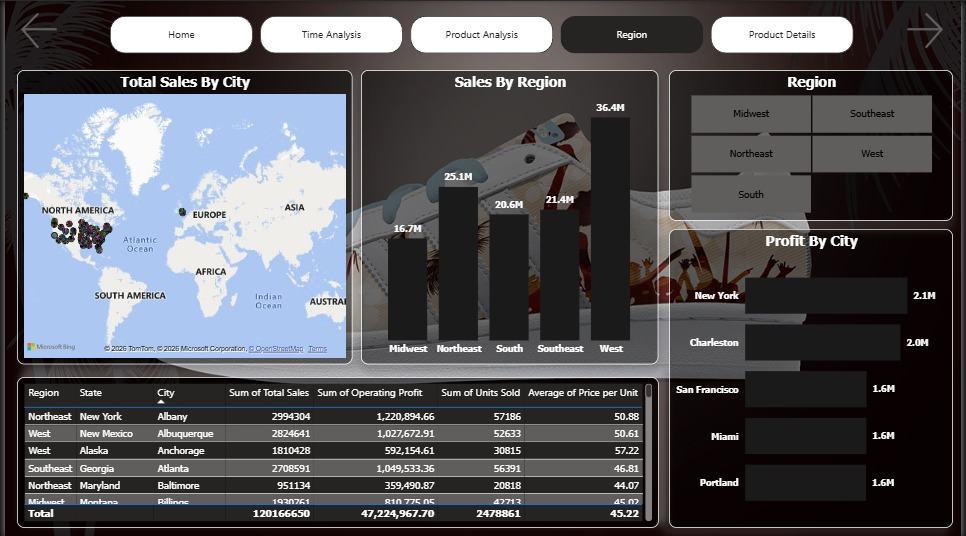

Layout of this report page (visuals, bound fields, positions):
{"tool":"powerbi","page":{"name":"Region","canvas":[1280,720],"ordinal":3},"visuals":[{"type":"map","title":"Total Sales By City","fields":{"Series":["Adidas_Sales.Total Sales"],"Category":["Adidas_Sales.City"]},"box":[15.4,92.5,448.6,394],"z":0},{"type":"clusteredColumnChart","title":"Sales By Region","fields":{"Category":["Adidas_Sales.Region","Adidas_Sales.City","Adidas_Sales.State"],"Y":["Sum(Adidas_Sales.Total Sales)"]},"box":[476.7,92.5,398.2,394],"z":1000},{"type":"barChart","title":"Profit By City","fields":{"Category":["Adidas_Sales.City"],"Y":["Sum(Adidas_Sales.Operating Profit)"]},"box":[888.8,305.6,379.9,399.6],"z":2000},{"type":"tableEx","fields":{"Values":["Adidas_Sales.Region","Adidas_Sales.State","Adidas_Sales.City","Sum(Adidas_Sales.Total Sales)","Sum(Adidas_Sales.Operating Profit)","Sum(Adidas_Sales.Units Sold)","Avg(Adidas_Sales.Price per Unit)"]},"box":[15.4,503.3,859.4,201.9],"z":3000},{"type":"slicer","title":"Region","fields":{"Values":["Adidas_Sales.Region"]},"box":[888.8,92.5,379.9,201.9],"z":4000},{"type":"pageNavigator","box":[140.2,19.6,999.6,50.5],"z":5000},{"type":"actionButton","box":[1200.1,9.8,68.7,60.3],"z":6000},{"type":"actionButton","box":[15.4,9.8,65.9,60.3],"z":7000}]}

Visuals, with their boxes in screenshot pixels (x1, y1, x2, y2), scaled from the page's 1280x720 canvas onto the 966x536 screenshot:
"Total Sales By City" map: {"x1": 12, "y1": 69, "x2": 350, "y2": 362}
"Sales By Region" clusteredColumnChart: {"x1": 360, "y1": 69, "x2": 660, "y2": 362}
"Profit By City" barChart: {"x1": 671, "y1": 228, "x2": 957, "y2": 525}
tableEx - Adidas_Sales.Region x Adidas_Sales.State: {"x1": 12, "y1": 375, "x2": 660, "y2": 525}
"Region" slicer: {"x1": 671, "y1": 69, "x2": 957, "y2": 219}
pageNavigator: {"x1": 106, "y1": 15, "x2": 860, "y2": 52}
actionButton: {"x1": 906, "y1": 7, "x2": 958, "y2": 52}
actionButton: {"x1": 12, "y1": 7, "x2": 61, "y2": 52}
